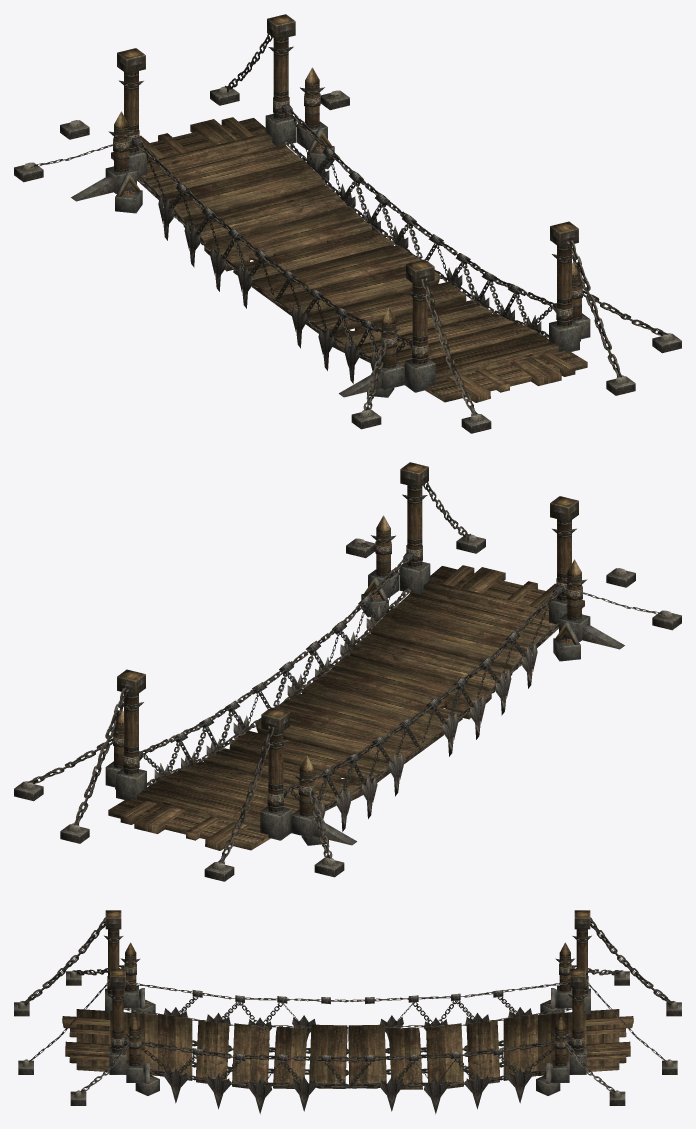
File: zshh_diaoqiao_01.FBX
3 views of the same model, one above another, from view 1: azimuth 30°, elevation 25°; view 2: azimuth 150°, elevation 25°; view 3: azimuth 270°, elevation 25° (orthographic). The views are drawn at different scales.
Parts seen in each view (by area): view 1: zshh_diaoqiao_01, zshh_diaoqiao_02; view 2: zshh_diaoqiao_01, zshh_diaoqiao_02; view 3: zshh_diaoqiao_01, zshh_diaoqiao_02.
Part boxes in pixels (<box>): zshh_diaoqiao_01: <box>14,14,681,433</box>; zshh_diaoqiao_02: <box>30,34,668,416</box>; zshh_diaoqiao_01: <box>14,462,681,881</box>; zshh_diaoqiao_02: <box>27,482,665,864</box>; zshh_diaoqiao_01: <box>14,910,681,1114</box>; zshh_diaoqiao_02: <box>21,917,674,1093</box>.
Size of the model in its own units: 801 by 1764 by 407.
